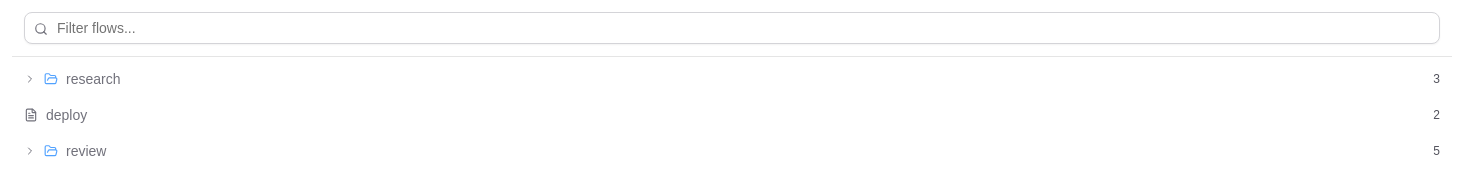
Test case: FlowFileList › shows no match state when filter has no results
Type "zzzzz" into the field with placeholder "Filter flows..." at [732, 28], box [24,12,1440,44]
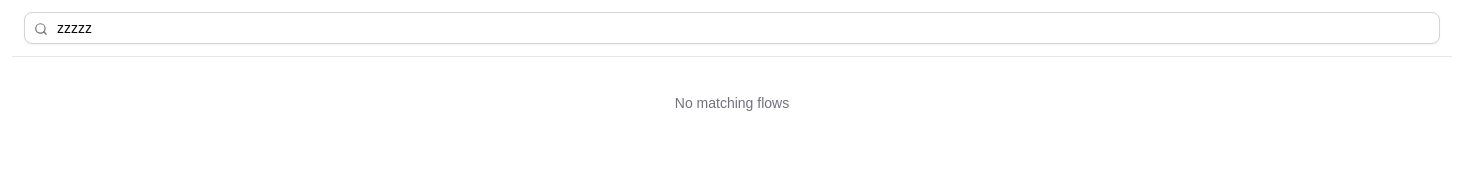
Expected: the text "No matching flows" is shown, [675,95,789,111]
